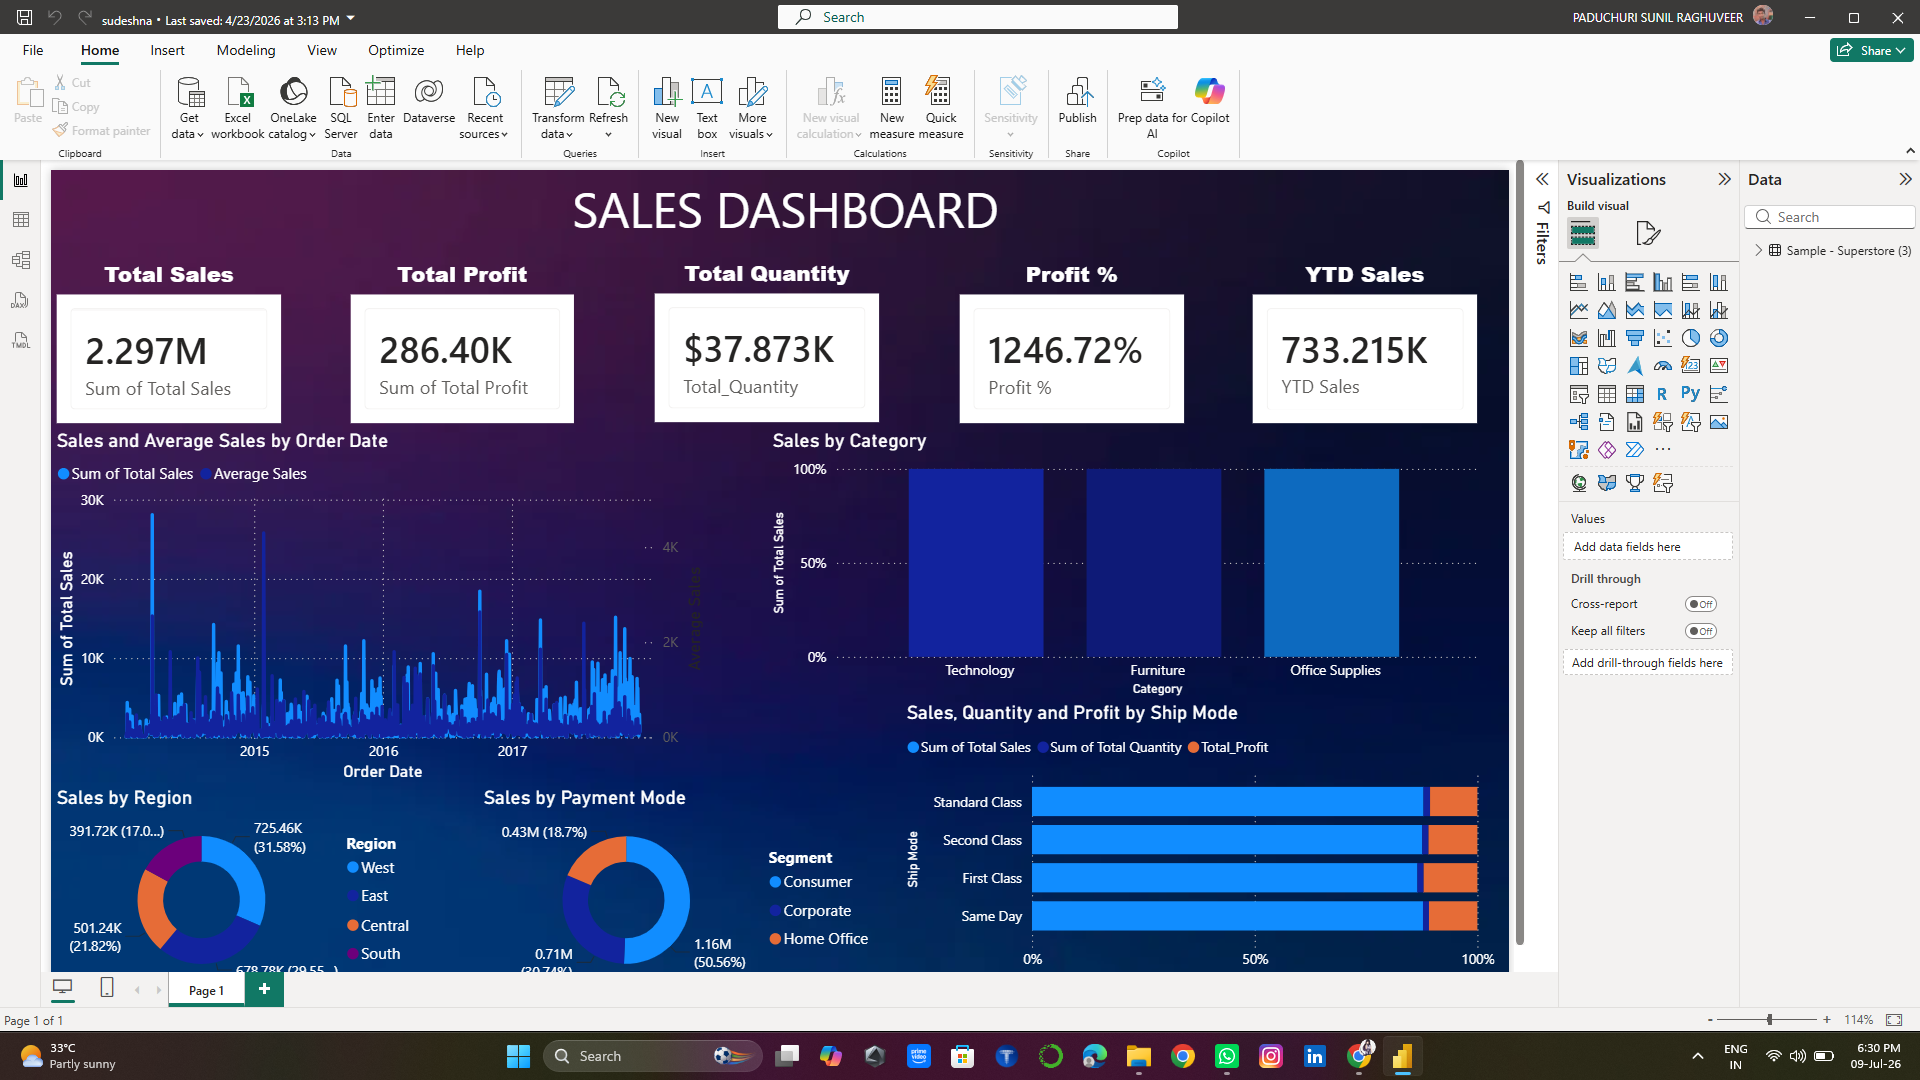

The page's visual inventory and layout, read from the dashboard file:
{"tool":"powerbi","page":{"name":"Page 1","canvas":[1280,720],"ordinal":0},"visuals":[{"type":"textbox","box":[10,0,1270,77],"z":0},{"type":"cardVisual","title":"Total Sales","fields":{"Data":["Sum(Sample - Superstore (3).Total Sales)"]},"box":[0,77.3,207.2,150.1],"z":1000},{"type":"cardVisual","title":"Total Profit","fields":{"Data":["Sum(Sample - Superstore (3).Total Profit)"]},"box":[258,77,206,150],"z":2000},{"type":"cardVisual","title":"Total Quantity","fields":{"Data":["Sample - Superstore (3).Total_Quantity"]},"box":[525,76.4,207.2,150.1],"z":3000},{"type":"cardVisual","title":"Profit %","fields":{"Data":["Sample - Superstore (3).Profit %"]},"box":[793,77,207,150],"z":4000},{"type":"cardVisual","title":"YTD Sales","fields":{"Data":["Sample - Superstore (3).YTD Sales"]},"box":[1050,77,207,150],"z":5000},{"type":"lineChart","title":"Sales and Average Sales by Order Date","fields":{"Category":["Sample - Superstore (3).Order Date"],"Y2":["Sample - Superstore (3).Average Sales"],"Y":["Sum(Sample - Superstore (3).Total Sales)"]},"box":[0,227,577,314],"z":6000},{"type":"hundredPercentStackedColumnChart","title":"Sales by Category","fields":{"Y":["Sum(Sample - Superstore (3).Total Sales)"],"Category":["Sample - Superstore (3).Category"]},"box":[629,227,629,239],"z":7000},{"type":"donutChart","title":"Sales by Region","fields":{"Category":["Sample - Superstore (3).Region"],"Y":["Sum(Sample - Superstore (3).Total Sales)"]},"box":[0,540.8,329.2,179.1],"z":8000},{"type":"donutChart","title":"Sales by Payment Mode","fields":{"Category":["Sample - Superstore (3).Segment"],"Y":["Sum(Sample - Superstore (3).Total Sales)"]},"box":[374.9,540.9,357.3,179.1],"z":9000},{"type":"hundredPercentStackedBarChart","title":"Sales, Quantity and Profit by Ship Mode","fields":{"Category":["Sample - Superstore (3).Ship Mode"],"Y":["Sum(Sample - Superstore (3).Total Sales)","Sum(Sample - Superstore (3).Total Quantity)","Sample - Superstore (3).Total_Profit"]},"box":[746,466,526,254],"z":10000}]}

Visuals, with their boxes on the page's 1280x720 design canvas (x1, y1, x2, y2). These are canvas units, not pixel positions in the 1920x1080 screenshot, which may show the page scaled, cropped or inside an application window:
textbox: detection(10, 0, 1280, 77)
"Total Sales" cardVisual: detection(0, 77, 207, 227)
"Total Profit" cardVisual: detection(258, 77, 464, 227)
"Total Quantity" cardVisual: detection(525, 76, 732, 226)
"Profit %" cardVisual: detection(793, 77, 1000, 227)
"YTD Sales" cardVisual: detection(1050, 77, 1257, 227)
"Sales and Average Sales by Order Date" lineChart: detection(0, 227, 577, 541)
"Sales by Category" hundredPercentStackedColumnChart: detection(629, 227, 1258, 466)
"Sales by Region" donutChart: detection(0, 541, 329, 720)
"Sales by Payment Mode" donutChart: detection(375, 541, 732, 720)
"Sales, Quantity and Profit by Ship Mode" hundredPercentStackedBarChart: detection(746, 466, 1272, 720)
